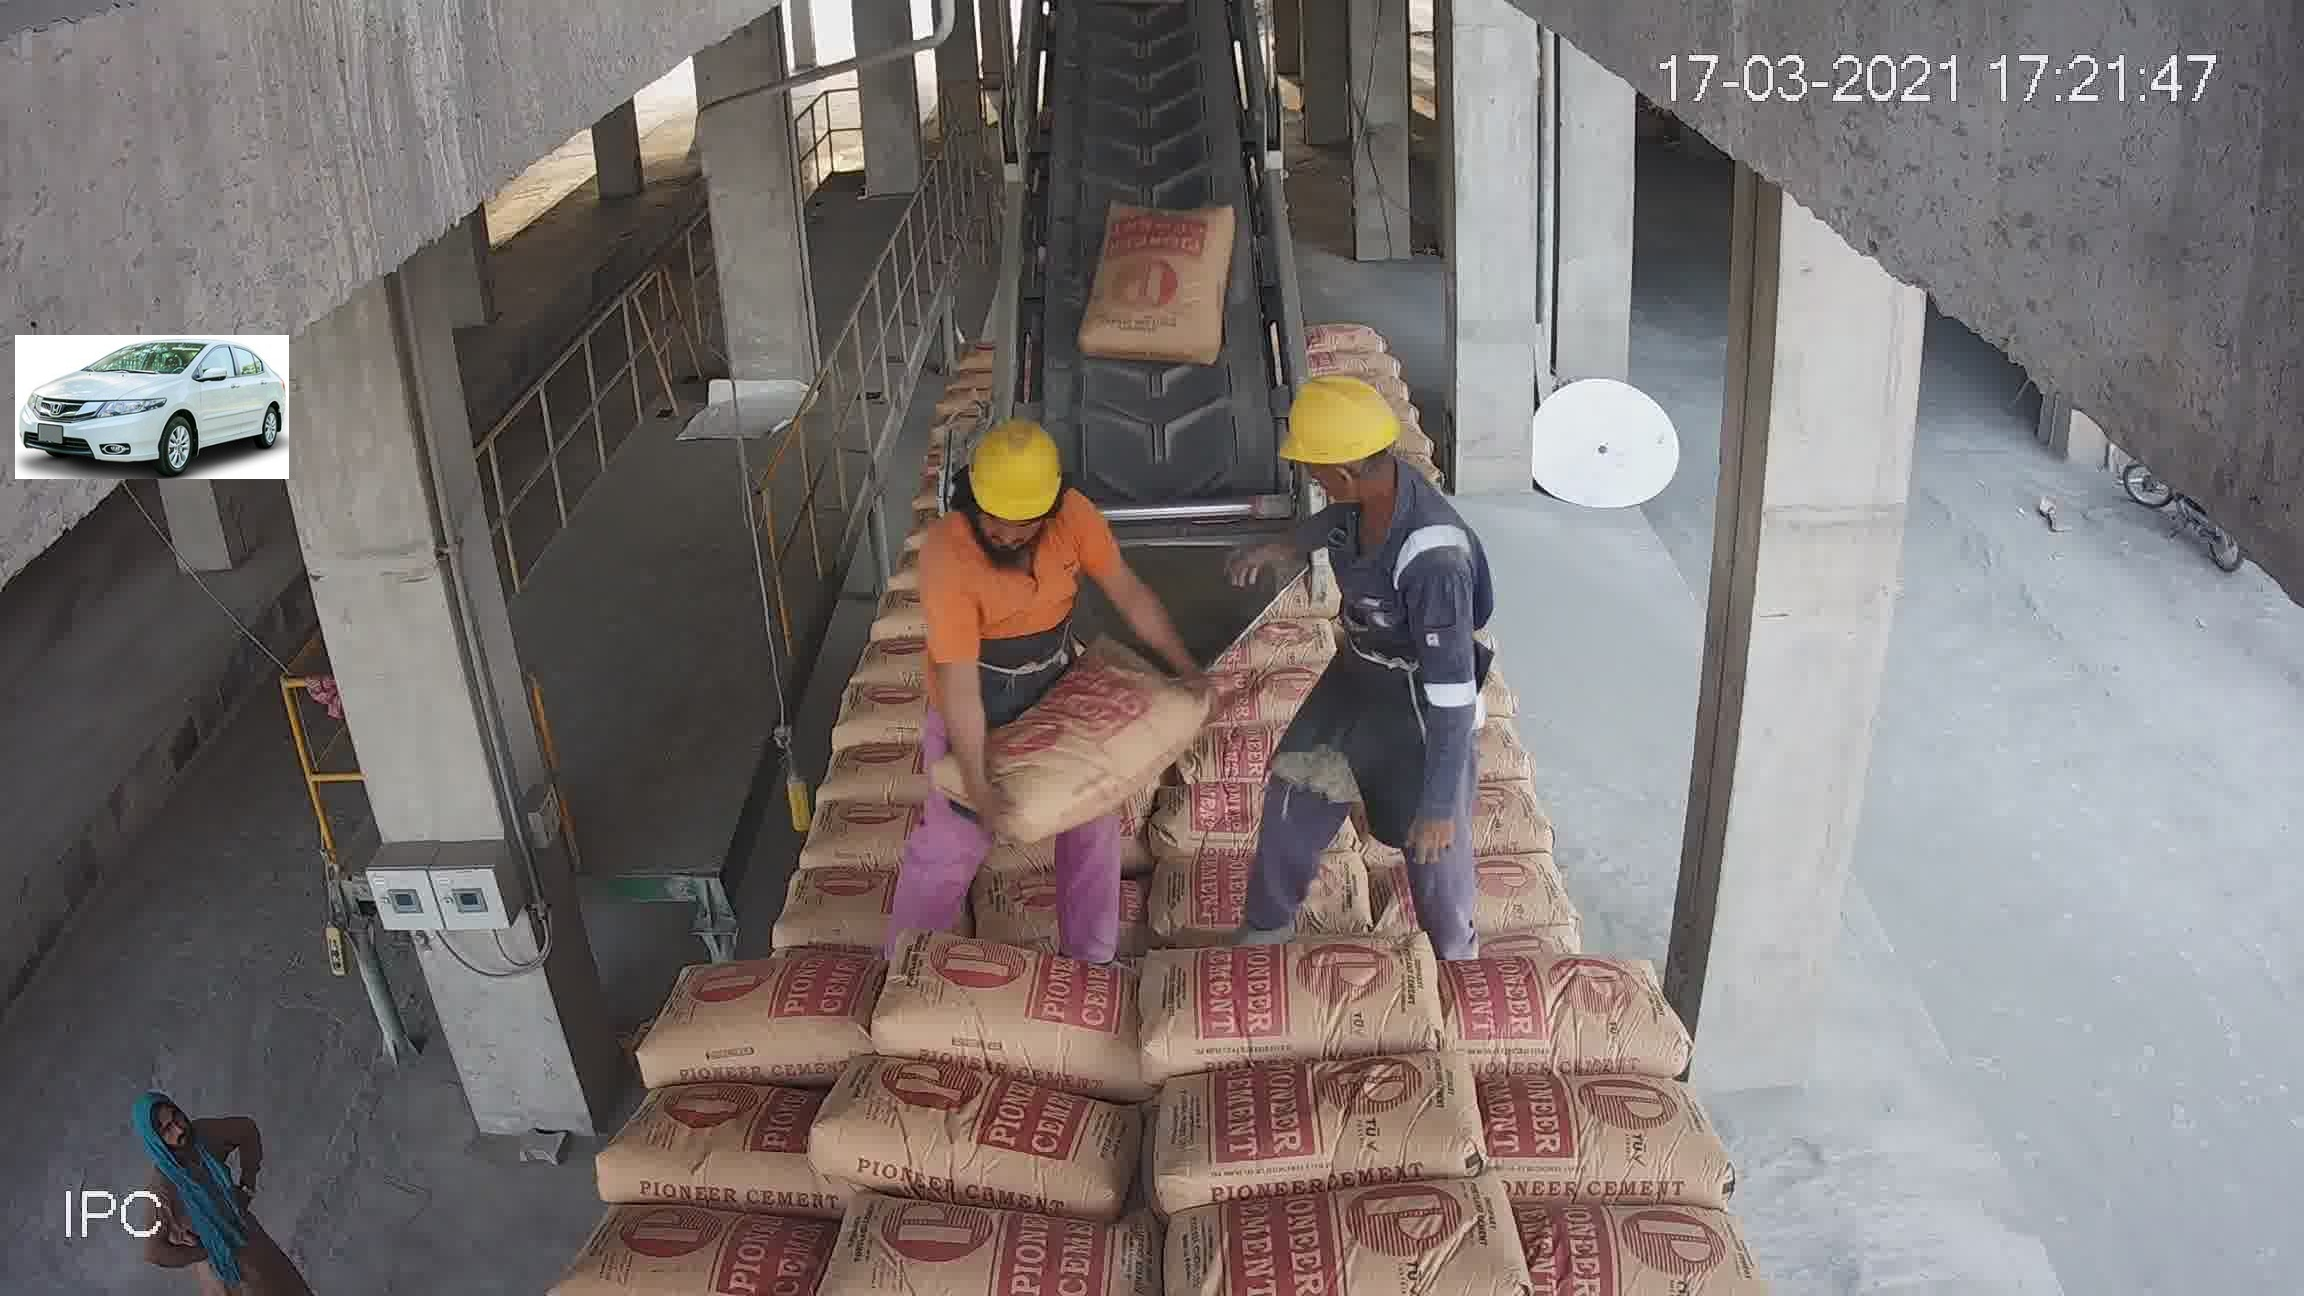bag_h: (1155, 1041, 1487, 1215), (1136, 918, 1429, 1074), (1124, 1174, 1532, 1280), (869, 957, 1144, 1082), (1146, 809, 1419, 934), (628, 957, 885, 1086), (856, 842, 1146, 953), (788, 1214, 1174, 1296), (1146, 715, 1389, 845), (820, 1082, 1131, 1184), (904, 744, 1146, 845), (606, 1078, 791, 1206), (682, 855, 873, 970), (1413, 761, 1600, 862), (579, 1220, 850, 1287), (725, 777, 904, 873), (999, 658, 1173, 731), (1160, 565, 1324, 639), (1030, 714, 1174, 780), (1166, 617, 1324, 673), (1136, 671, 1309, 715), (1025, 581, 1185, 628), (1182, 521, 1329, 570), (1022, 616, 1166, 665), (902, 457, 1032, 510), (885, 506, 1044, 544), (940, 533, 1036, 590)
belt: (1017, 6, 1305, 524), (1472, 943, 1669, 1078), (1487, 1082, 1733, 1188), (1518, 1185, 1772, 1283), (1400, 855, 1635, 943)
